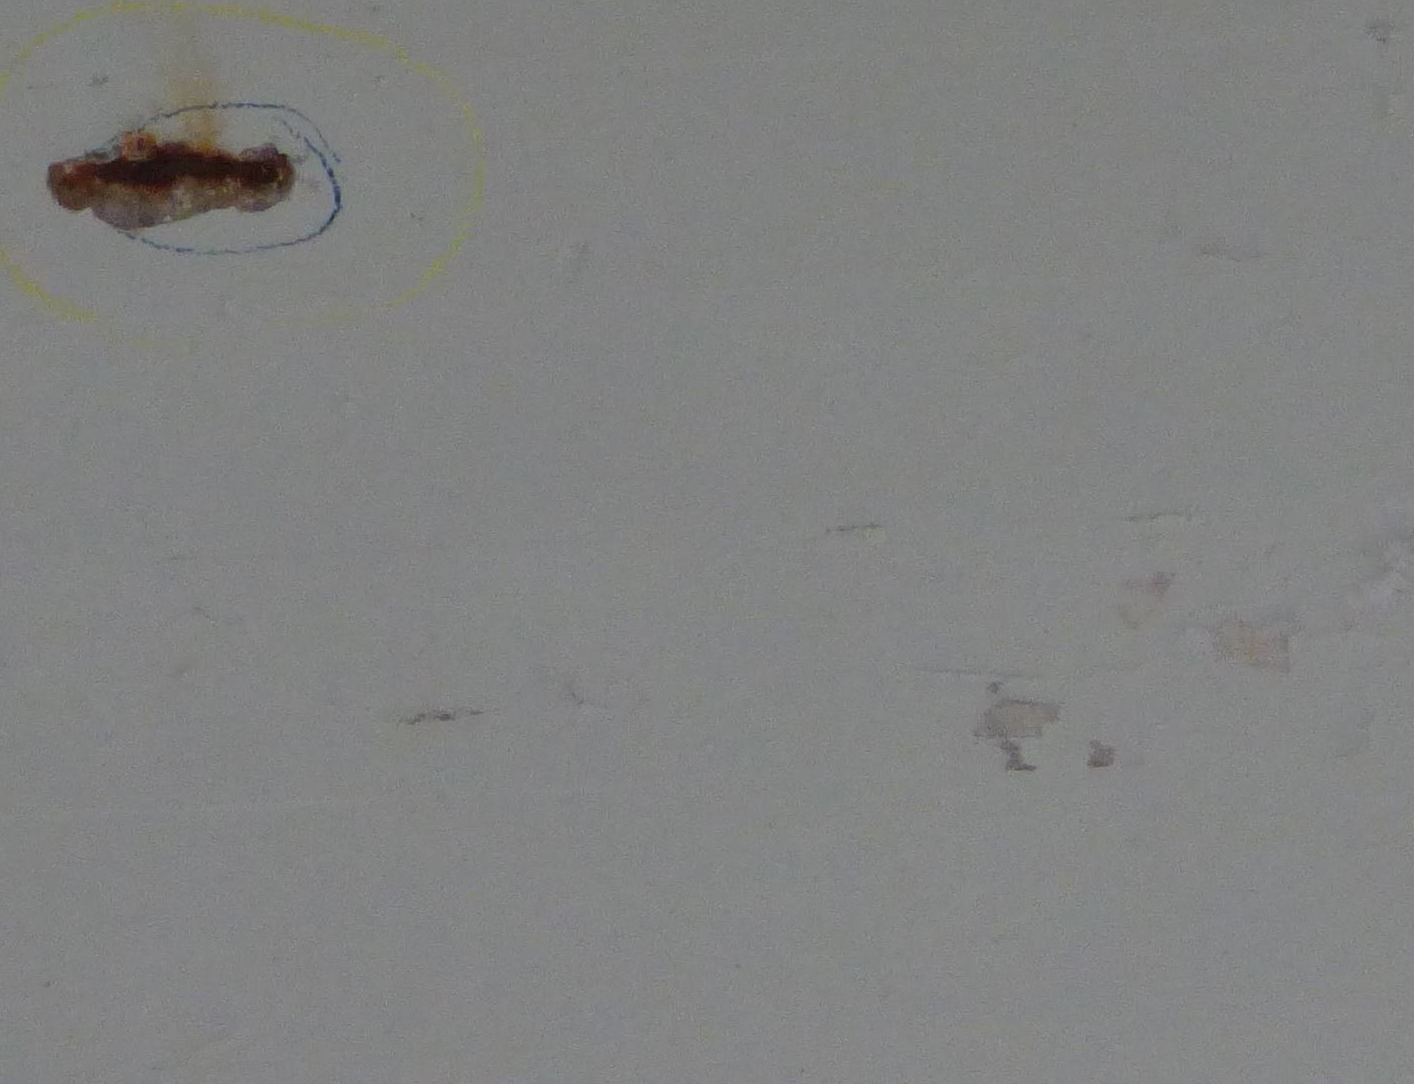Exposed reinforcement: (88, 161, 279, 184)
Spalling: (47, 130, 297, 231)
